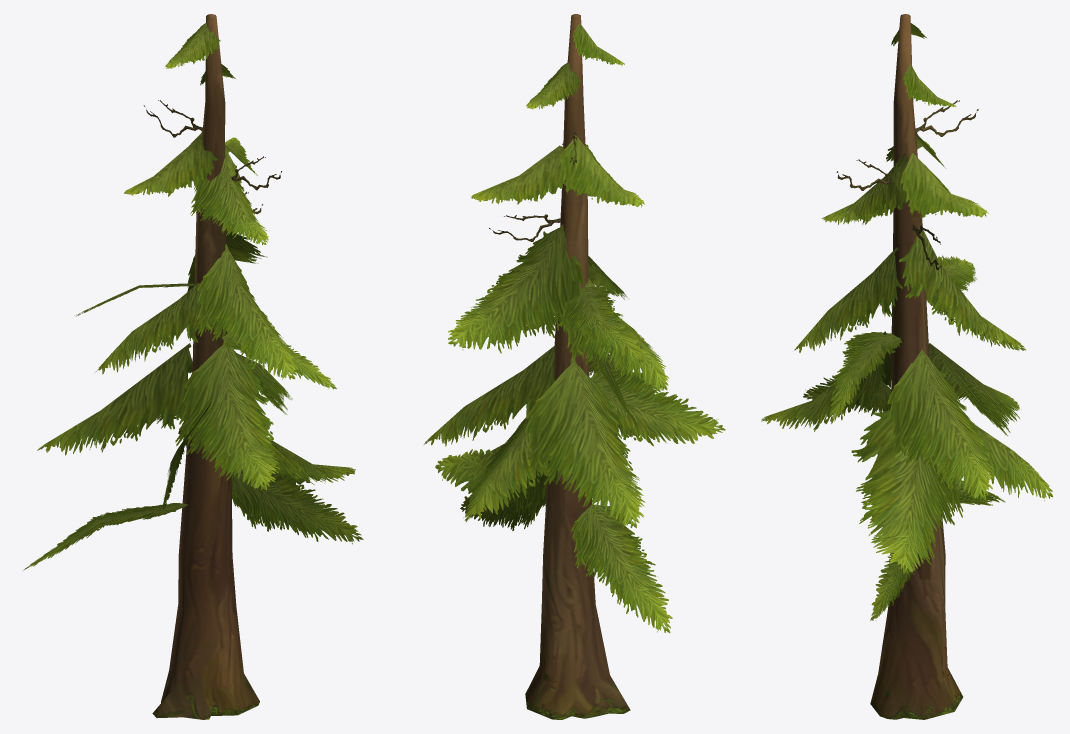
File: Coniferous_green01.FBX
The picture shows the model from 3 angles, left to right: view 1: azimuth 30°, elevation 25°; view 2: azimuth 150°, elevation 25°; view 3: azimuth 270°, elevation 25°; orthographic projection.
Visible parts, largest first — view 1: Coniferous_green01; view 2: Coniferous_green01; view 3: Coniferous_green01.
Boxes of the visible parts, x1,y1,x2,y2 form: Coniferous_green01: [23, 14, 363, 719]; Coniferous_green01: [424, 14, 725, 719]; Coniferous_green01: [761, 14, 1053, 719].
Size of the model in its own units: 892 by 1979 by 780.
